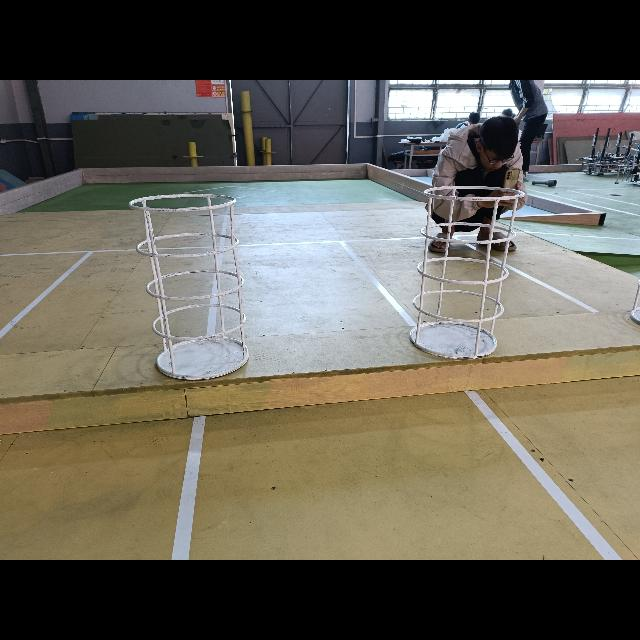S: (129, 190, 251, 382), (406, 182, 528, 361)
